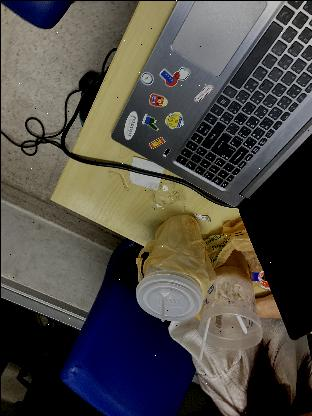Others: (137, 214, 215, 323), (135, 213, 217, 299), (198, 246, 262, 352), (132, 272, 204, 326), (202, 218, 262, 270), (126, 154, 164, 194), (145, 177, 185, 211), (196, 316, 210, 360), (230, 303, 249, 332), (193, 210, 213, 226), (159, 296, 168, 322)
